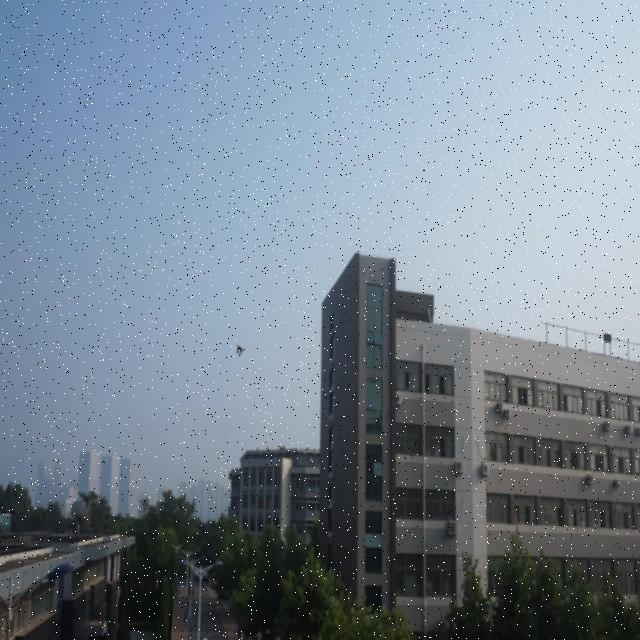UAV: (236, 343, 244, 356)
